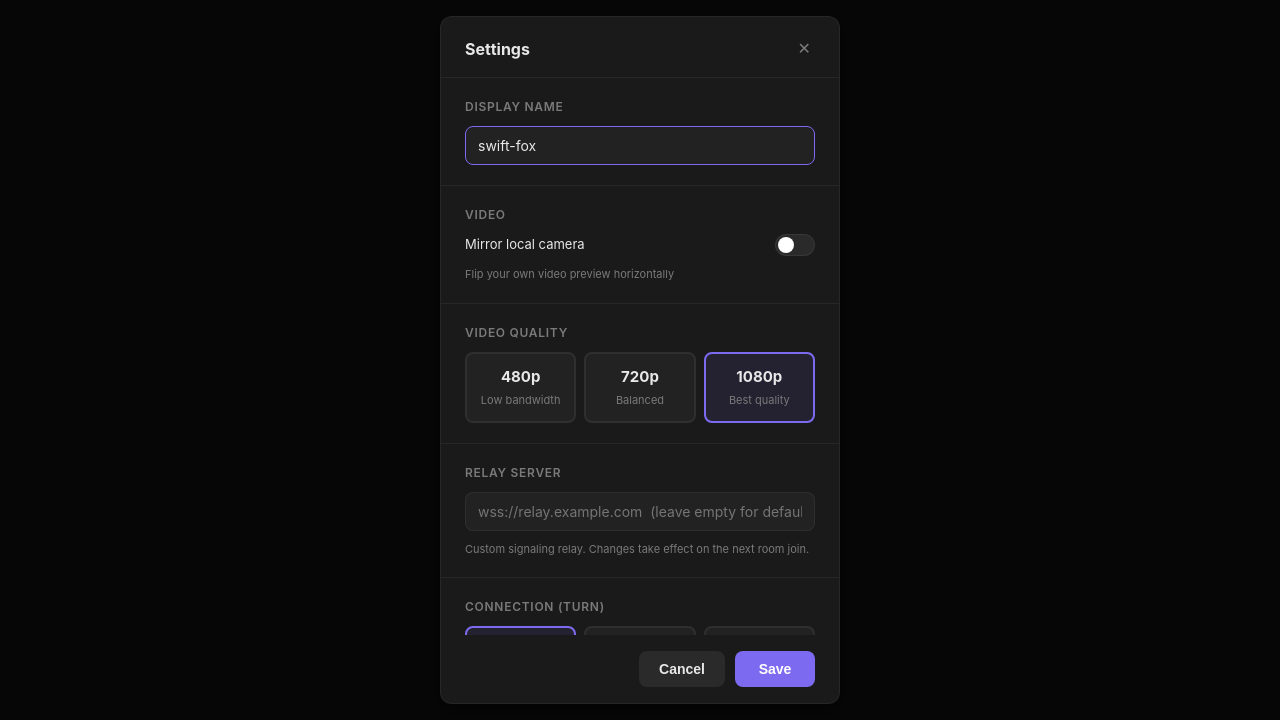
Test: SettingsModal — validation › shows error if name contains invalid characters
The width and height of the screenshot is (1280, 720).
Step 1. Replace the text in the field with placeholder "Your name" with "nome@invalido!" → (640, 146), box [465,126,815,165]
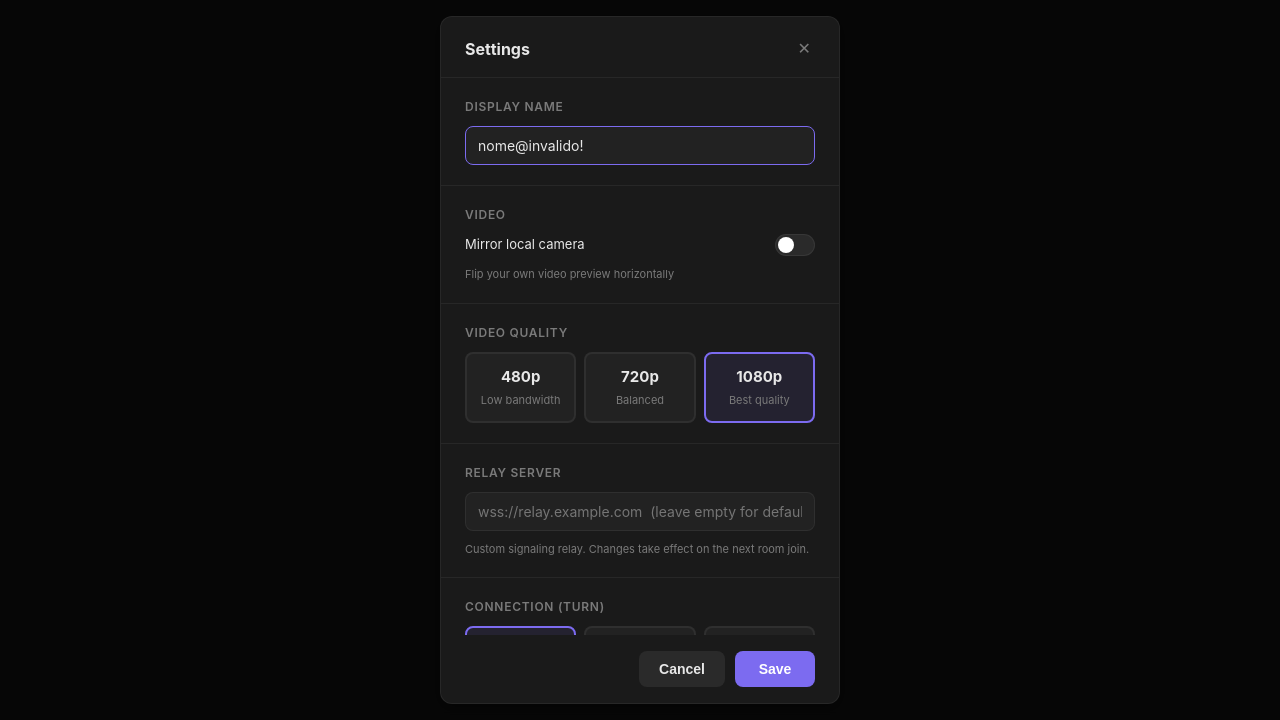
Step 2. Click the button "Save" → (775, 669), box [735,651,815,687]
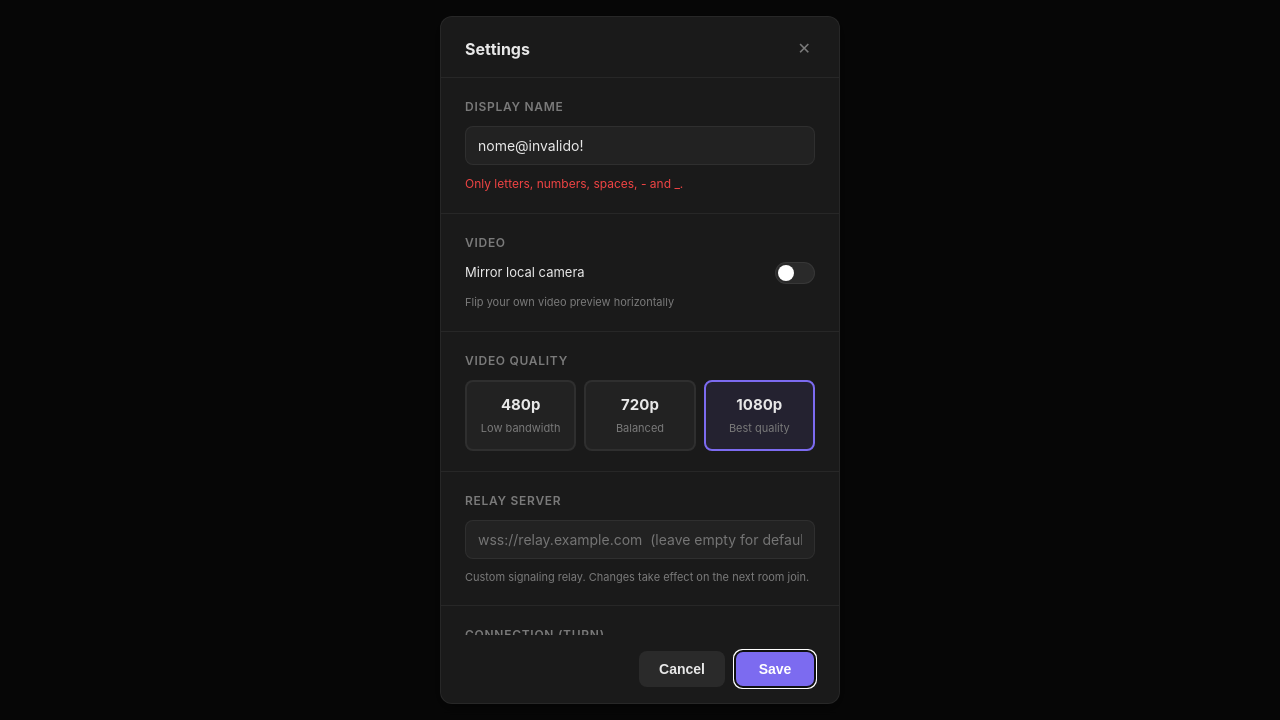
Expected: the text "Only letters, numbers, spaces, - and _." is shown, [465,176,683,191]
